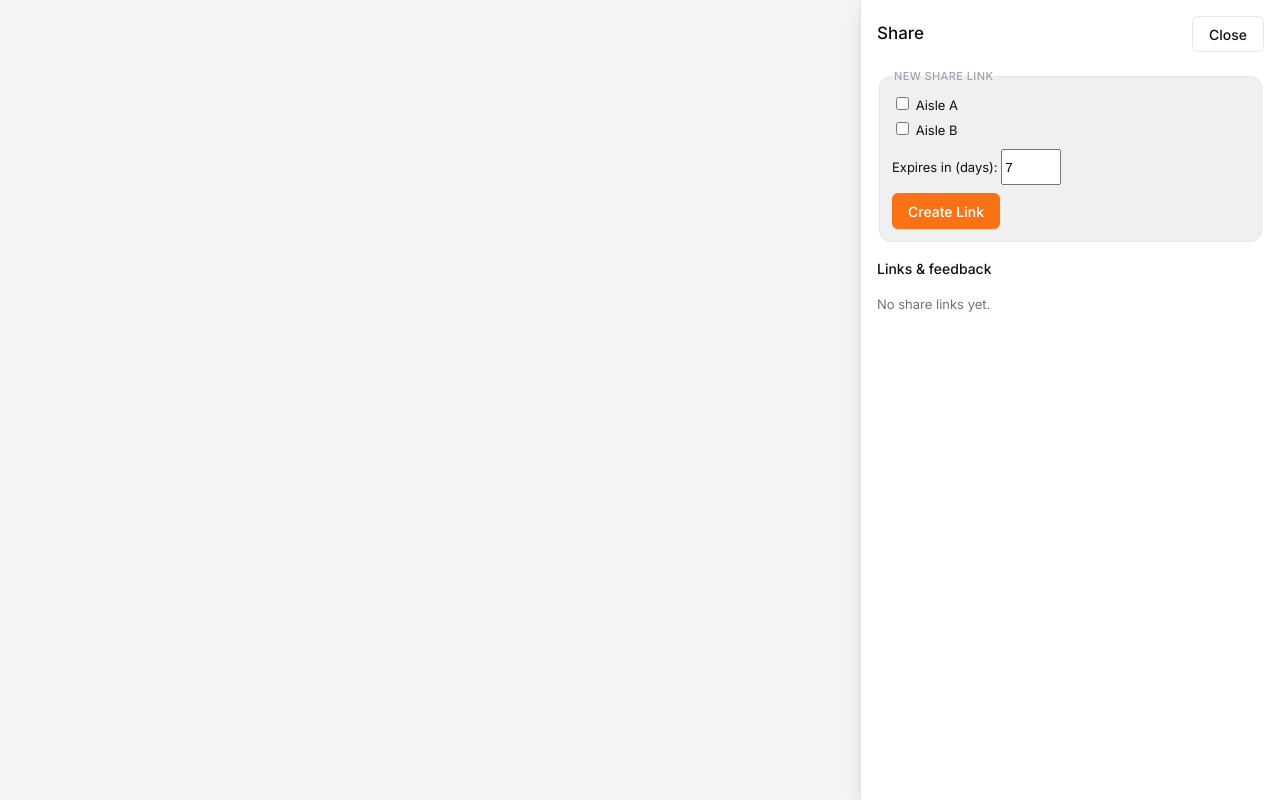
Test: SharePanel — Spec §6.3a/§6.6b: share link creation/management + feedback viewer › revoke marks a link revoked and hides its Revoke button
Check: the text "Aisle A" is shown, box [896,97,958,113]
Click the checkbox labelled "Aisle A".
click(902, 103)  # box [896,97,909,110]
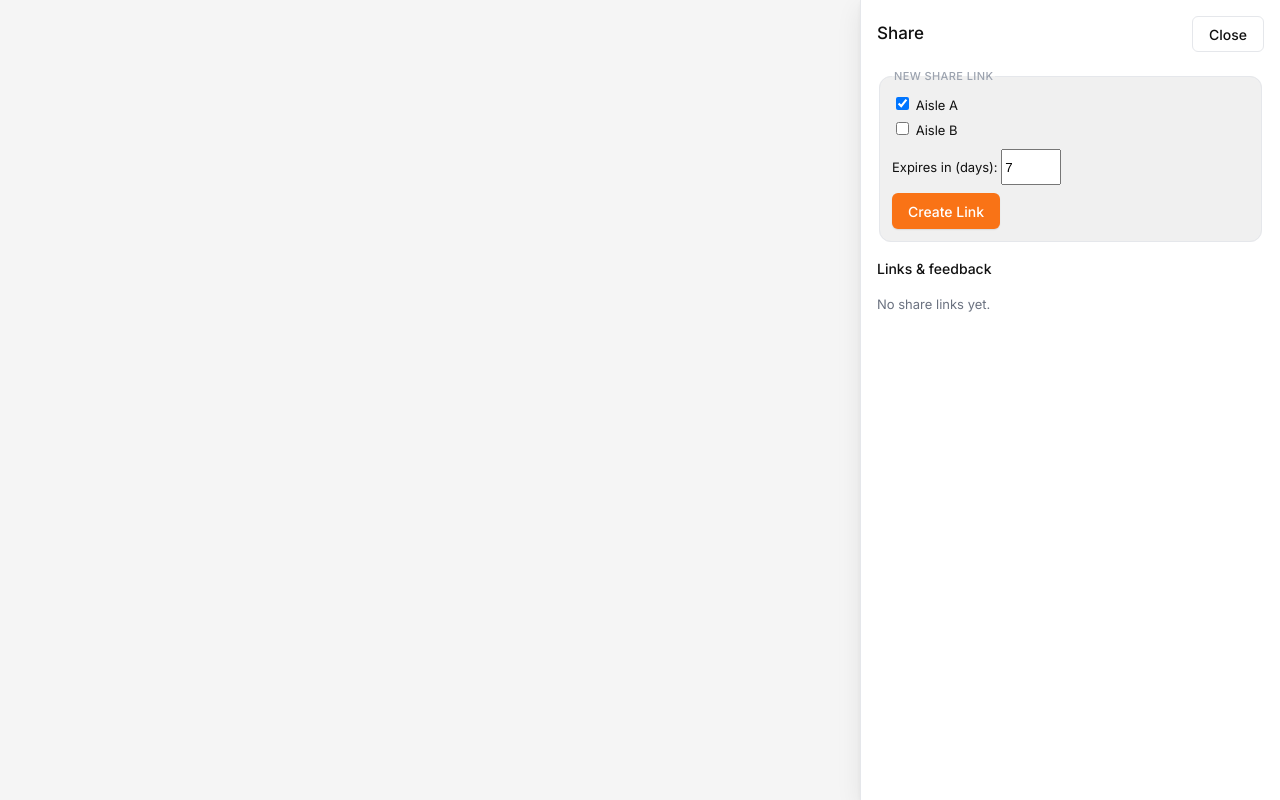
Click the button "Create Link".
click(946, 211)  # box [892,193,1000,229]
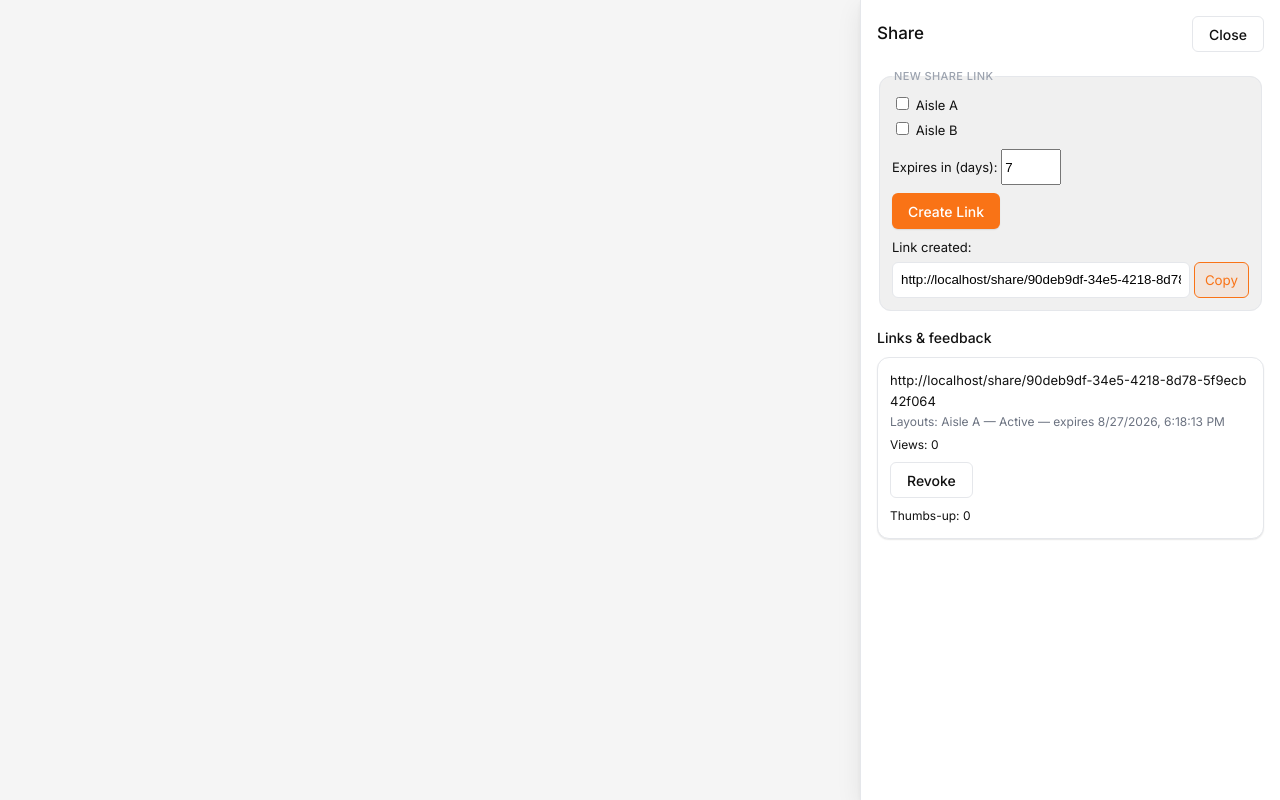
Check: the button "Revoke" is shown
Click the button "Revoke".
click(931, 480)  # box [890,462,973,498]
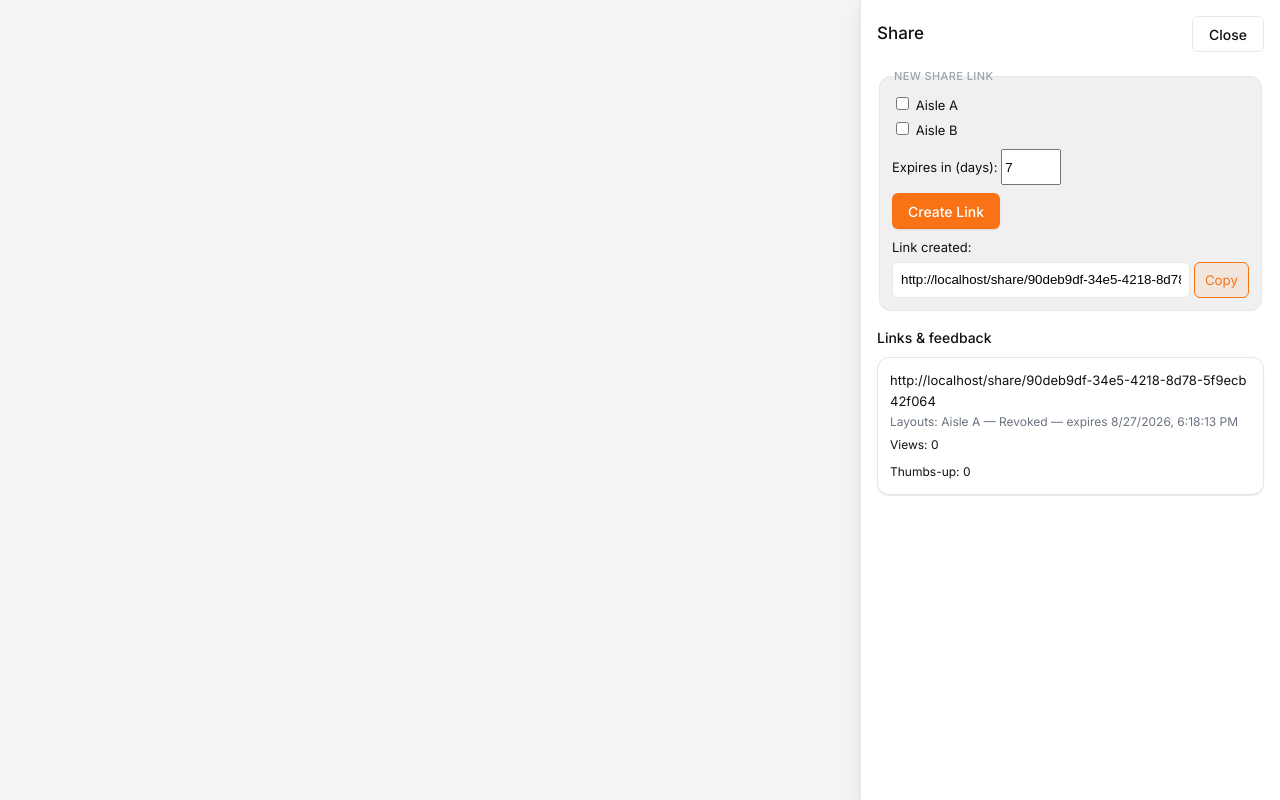
Check: the text "Layouts: Aisle A — Revoked — expires 8/27/2026, 6:18:13 PM" is shown, box [890,412,1251,431]
